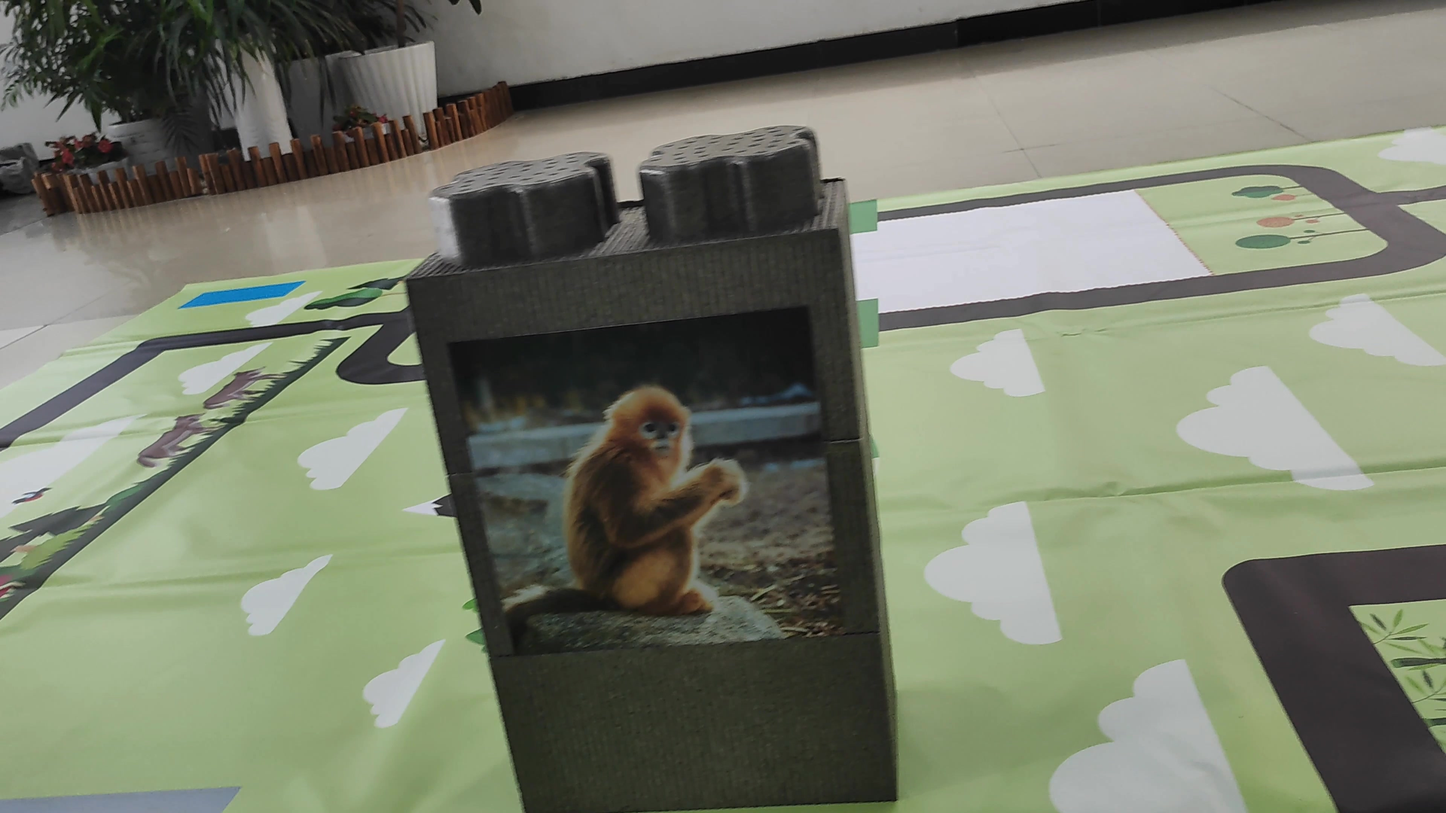monkey: (528, 359, 774, 628)
